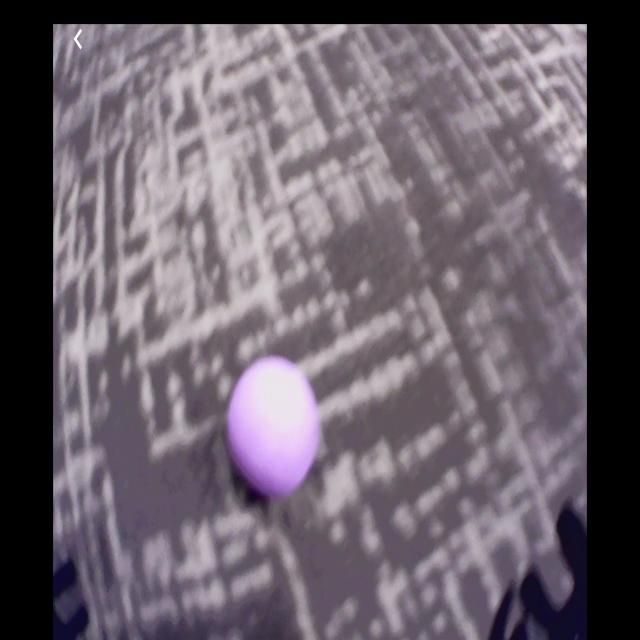ball: (229, 358, 320, 490)
